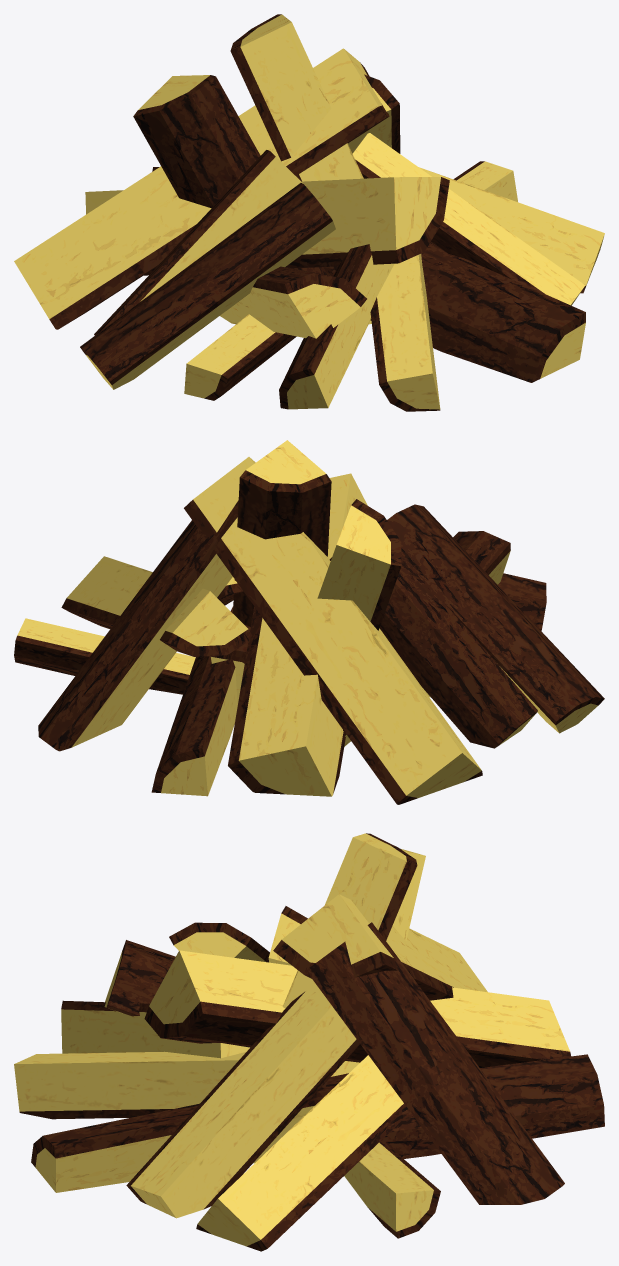
The model's file is fire_camp1.FBX.
3 views of the same model, one above another, from view 1: azimuth 30°, elevation 25°; view 2: azimuth 150°, elevation 25°; view 3: azimuth 270°, elevation 25° (orthographic). The views are drawn at different scales.
Visible parts, largest first — view 1: fire_camp; view 2: fire_camp; view 3: fire_camp.
Part boxes in pixels (x1,y1,x2,y2): fire_camp: (14, 14, 604, 411); fire_camp: (14, 440, 604, 804); fire_camp: (14, 833, 604, 1251).
Bounding box in the file's own units: 146 × 72.23 × 138.
